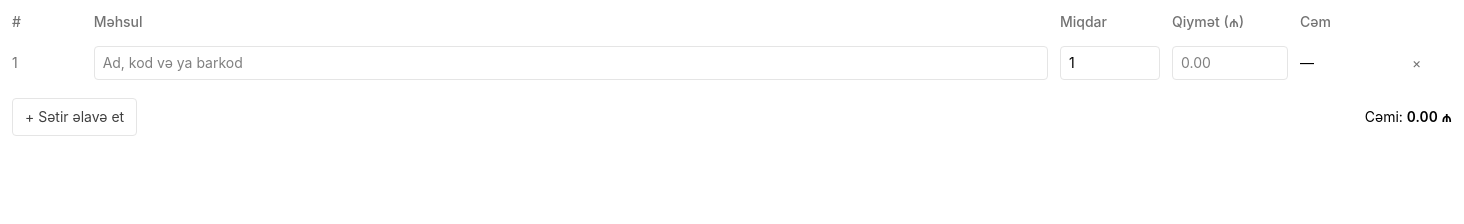
Test: DocumentLinesEditor product picker › filters the line product by name, code or barcode and shows the warehouse stock
Click the dropdown named "Sətir 1: məhsul" at (571, 63), box [94, 46, 1048, 80]
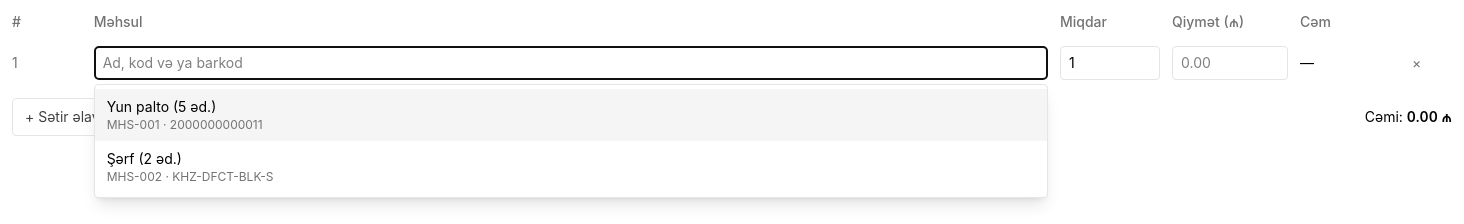
Check: the number of options is 2, box [95, 89, 1047, 141]; [107, 150, 273, 184]
Type "palt" into the dropdown named "Sətir 1: məhsul" at (571, 63), box [94, 46, 1048, 80]
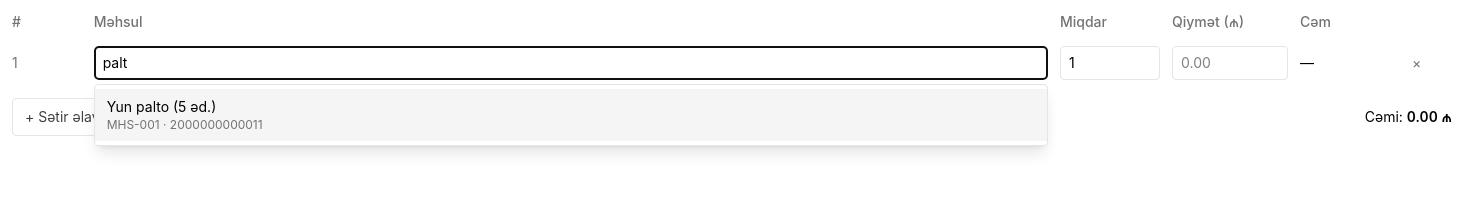
Check: the option shows "Yun palto (5 əd.)", box [95, 89, 1047, 141]
Check: the number of options is 1, box [95, 89, 1047, 141]
